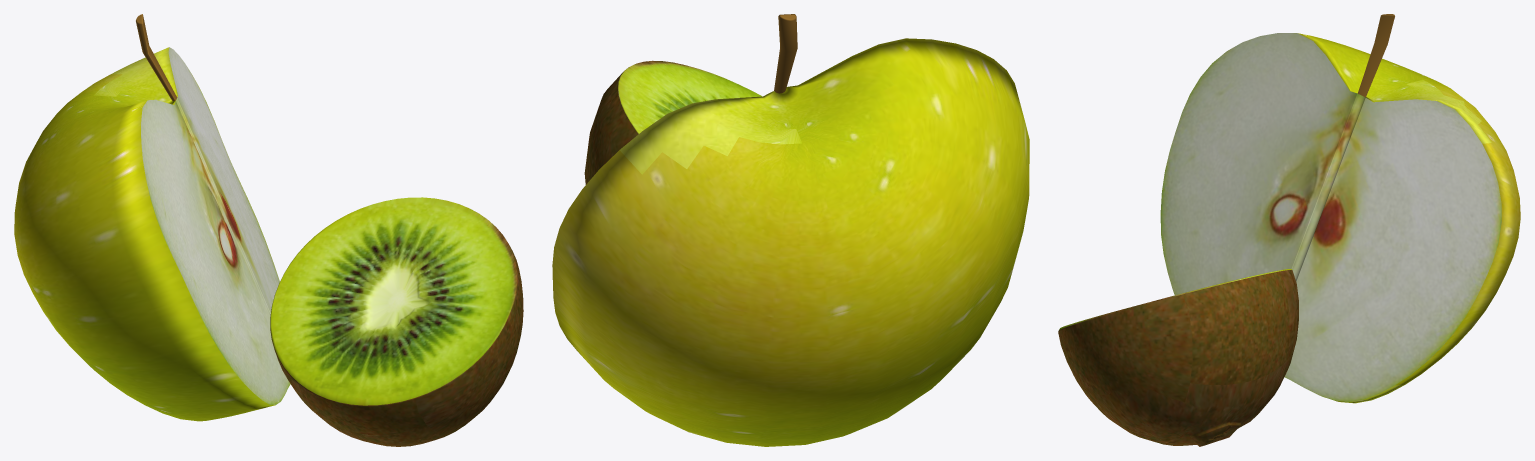
Rendered from tams_Fruit_apple_kiwi.fbx.
3 renders of one model, left to right at view 1: azimuth 30°, elevation 25°; view 2: azimuth 150°, elevation 25°; view 3: azimuth 270°, elevation 25°, orthographic. The views are drawn at different scales.
Parts seen in each view (by area): view 1: apple, kiwi; view 2: apple, kiwi; view 3: apple, kiwi.
Part boxes in pixels (x1,y1,x2,y2): apple: (14,14,290,421); kiwi: (270,197,523,446); apple: (552,14,1029,446); kiwi: (584,60,762,184); apple: (1160,14,1520,403); kiwi: (1058,269,1298,446).
Size of the model in its own units: 6 by 5.46 by 6.48.
